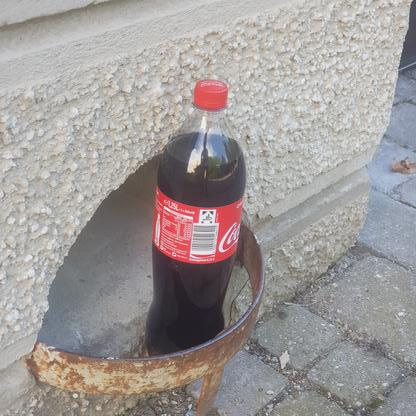coca-cola: (147, 77, 247, 361)
